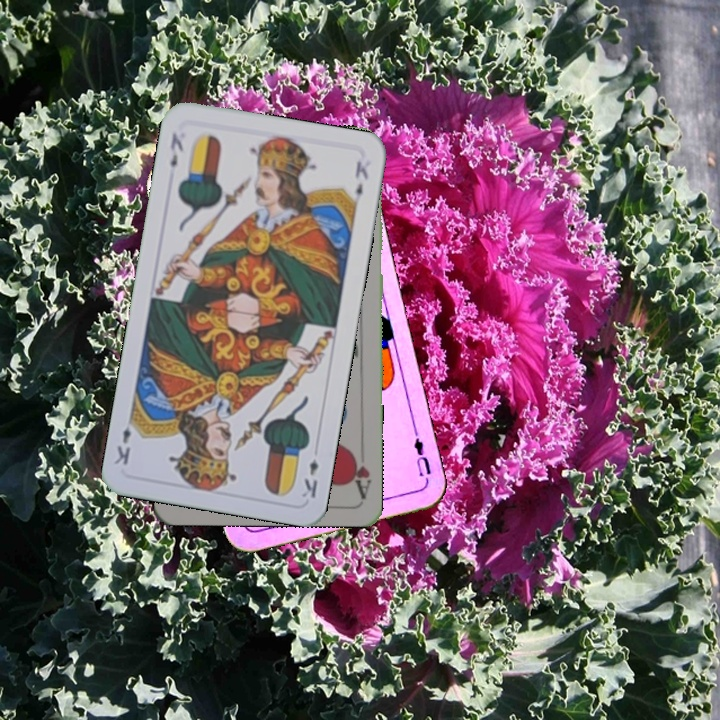EK: (298, 455, 321, 501), (166, 129, 186, 170)
EU: (409, 426, 434, 484)
HA: (347, 441, 374, 500)
